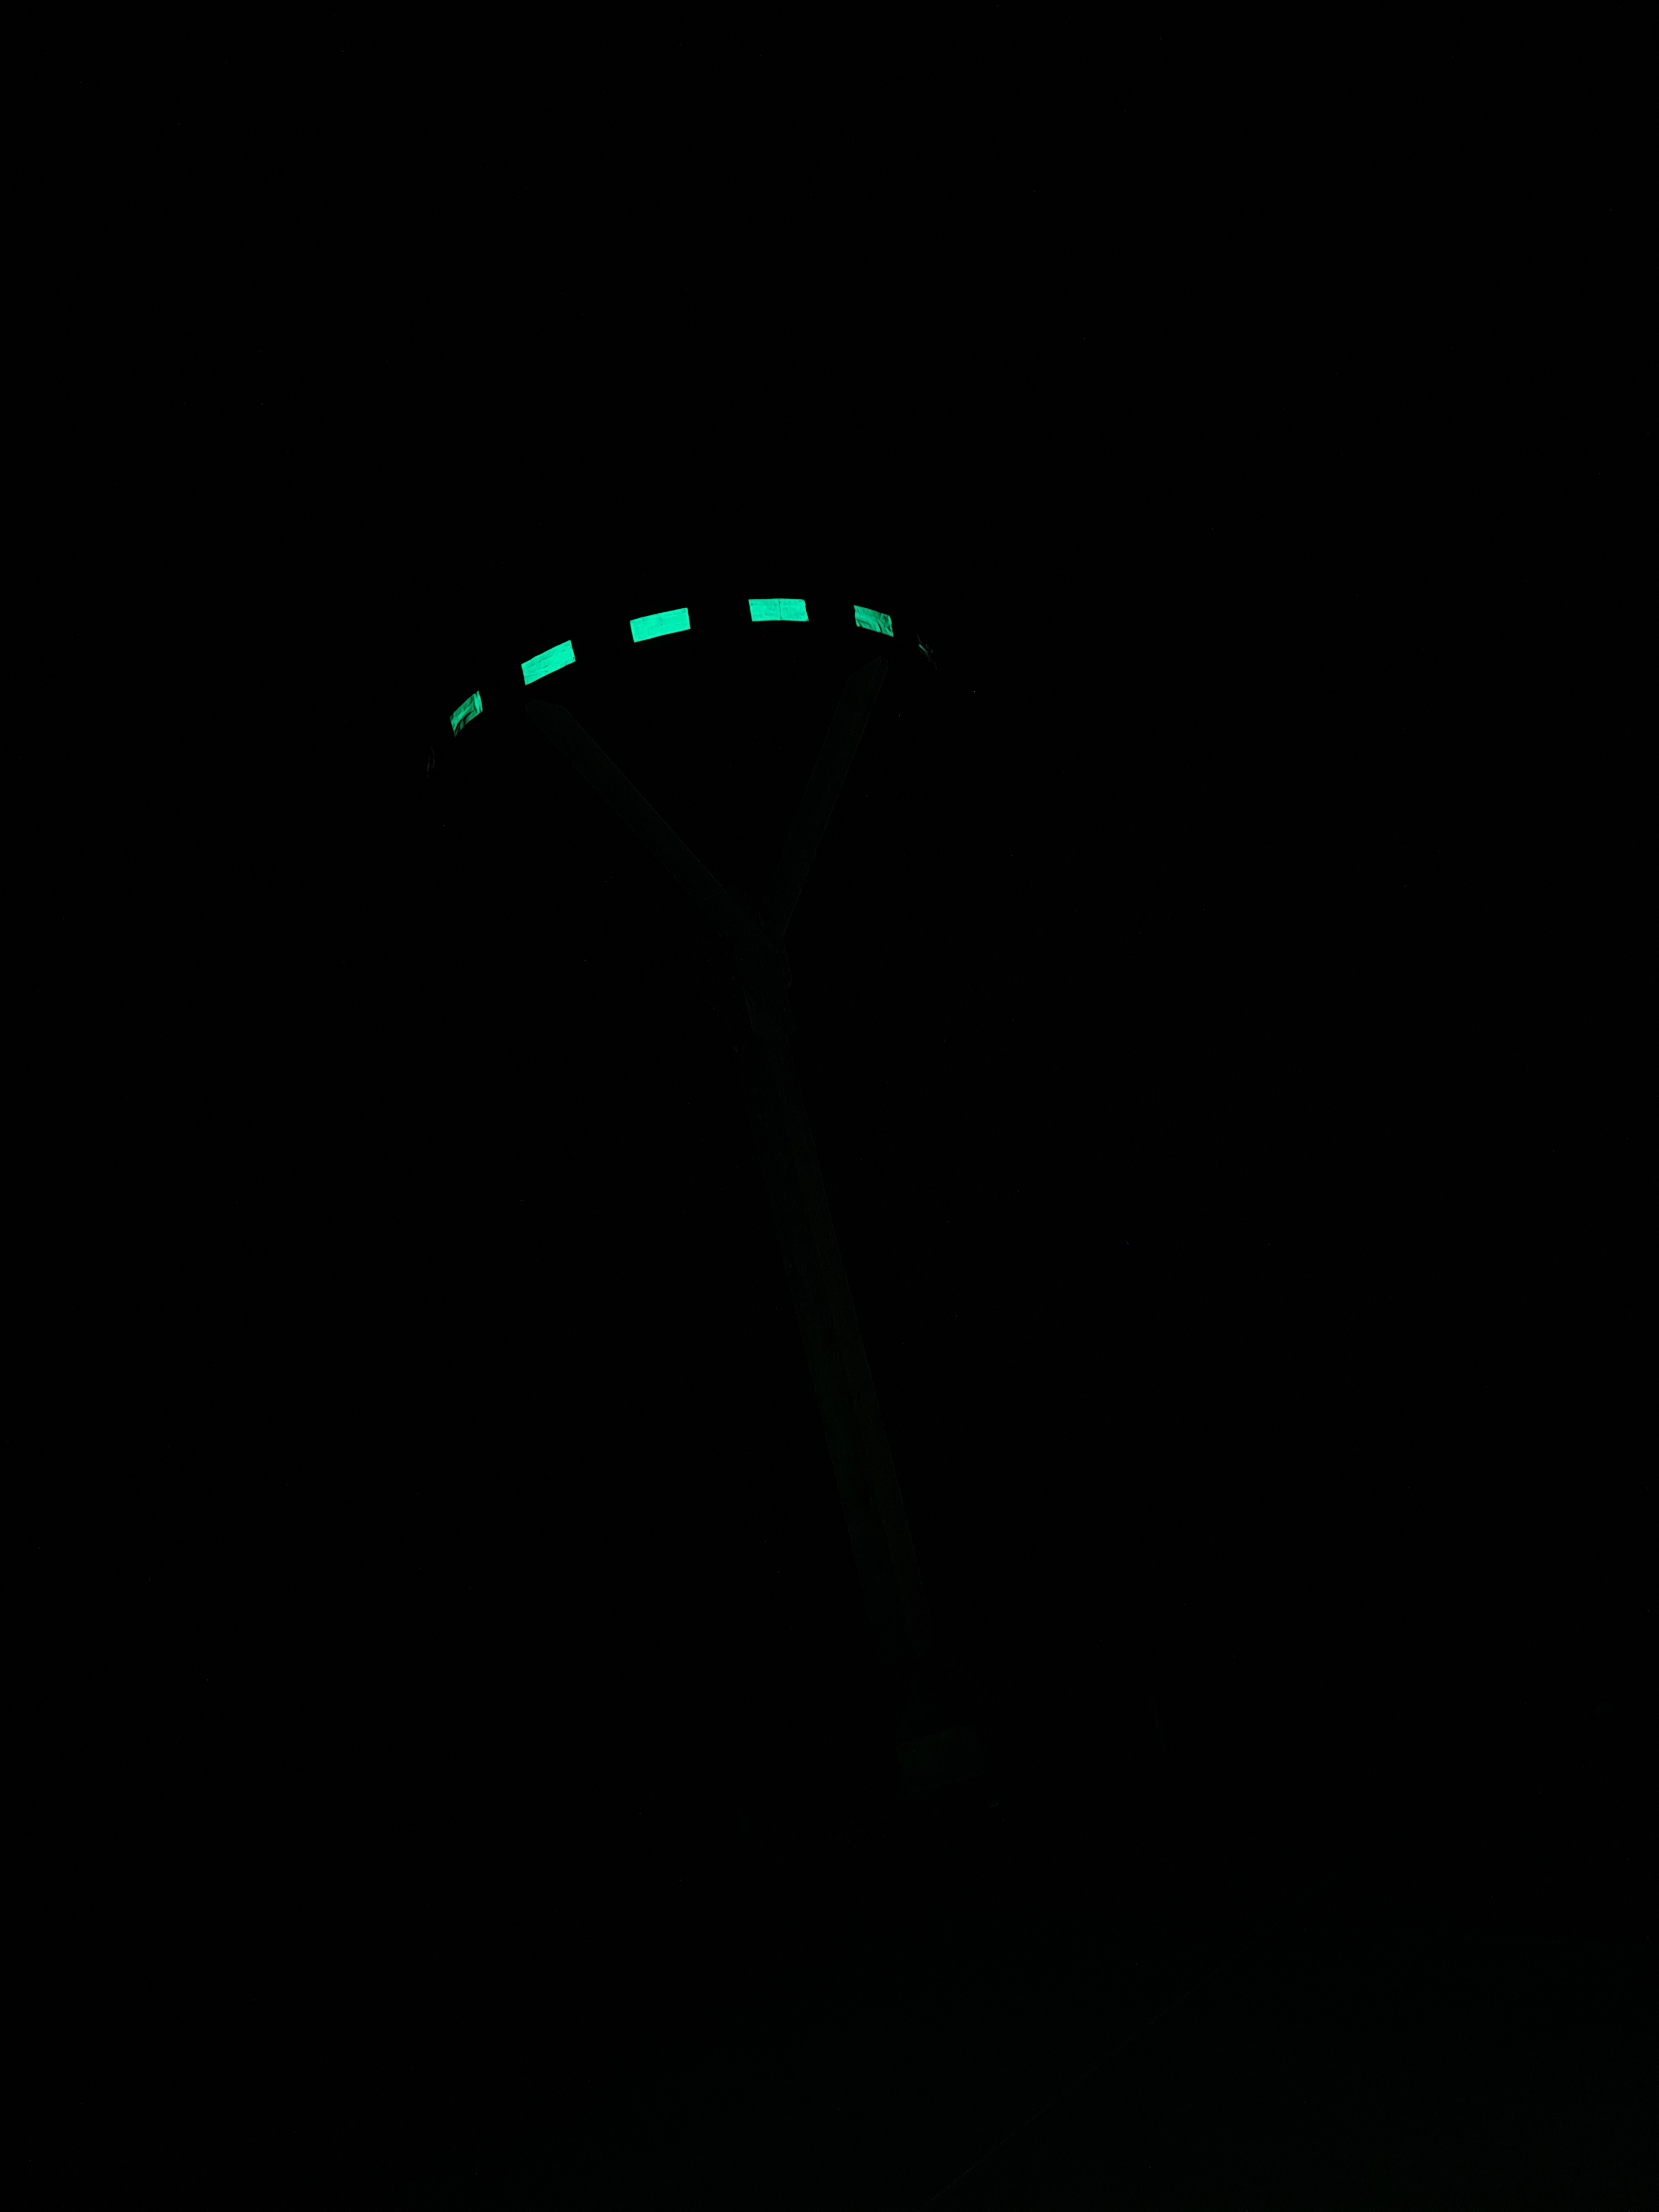hoop: (448, 596, 901, 737)
